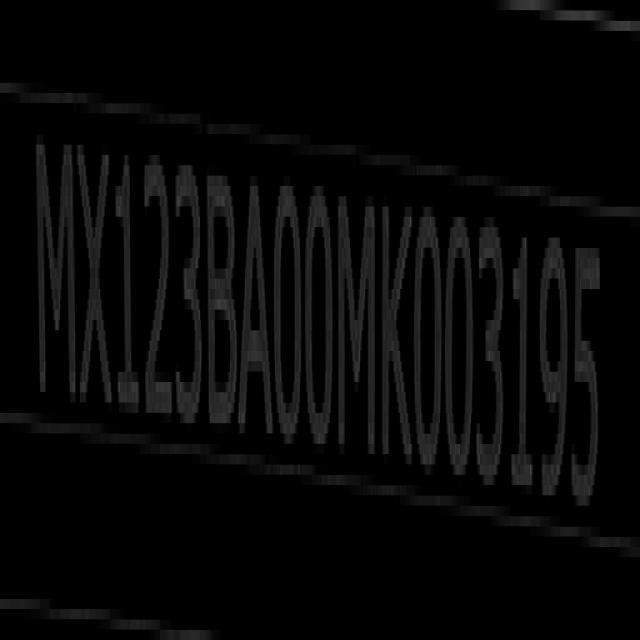0: (306, 164, 337, 469), (276, 163, 306, 467), (446, 199, 476, 495), (416, 190, 444, 486)
1: (114, 145, 142, 432), (512, 206, 534, 506)
2: (144, 147, 174, 445)
3: (476, 202, 506, 500), (175, 146, 205, 443)
5: (570, 224, 602, 526)
9: (540, 223, 571, 519)
A: (237, 164, 274, 460)
B: (206, 153, 238, 436)
K: (382, 178, 416, 484)
M: (34, 114, 77, 427), (337, 167, 377, 477)
X: (77, 127, 116, 433)
